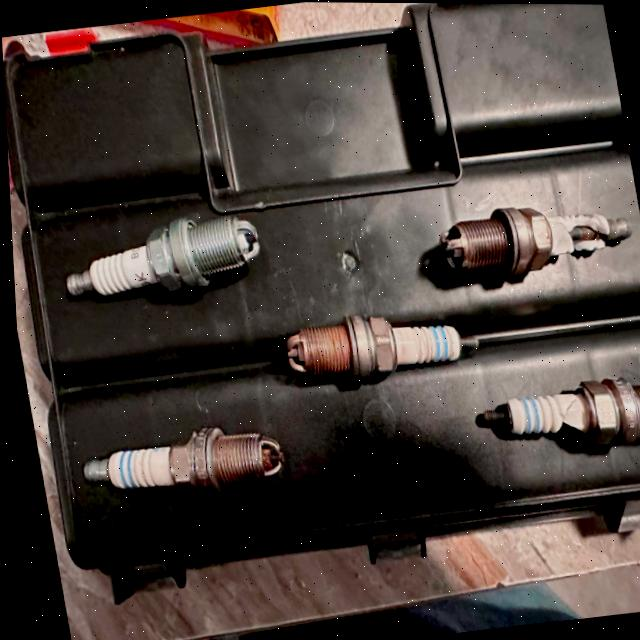damaged_spark-plug: (431, 188, 636, 287), (462, 366, 640, 462)
spark-plug: (50, 207, 266, 306), (273, 303, 481, 396), (72, 417, 283, 498)
